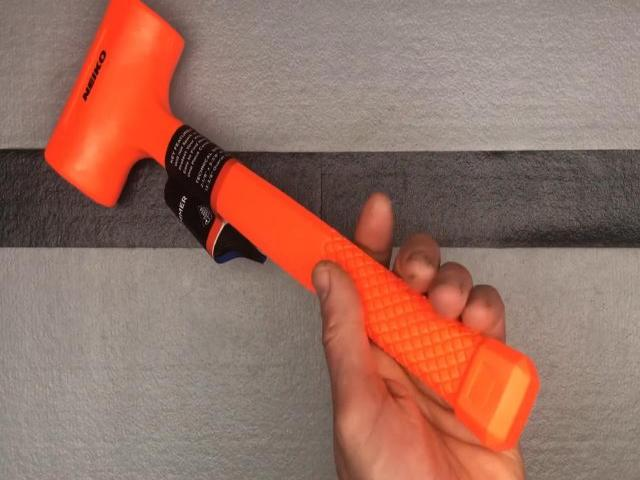hammer: (44, 0, 544, 451)
